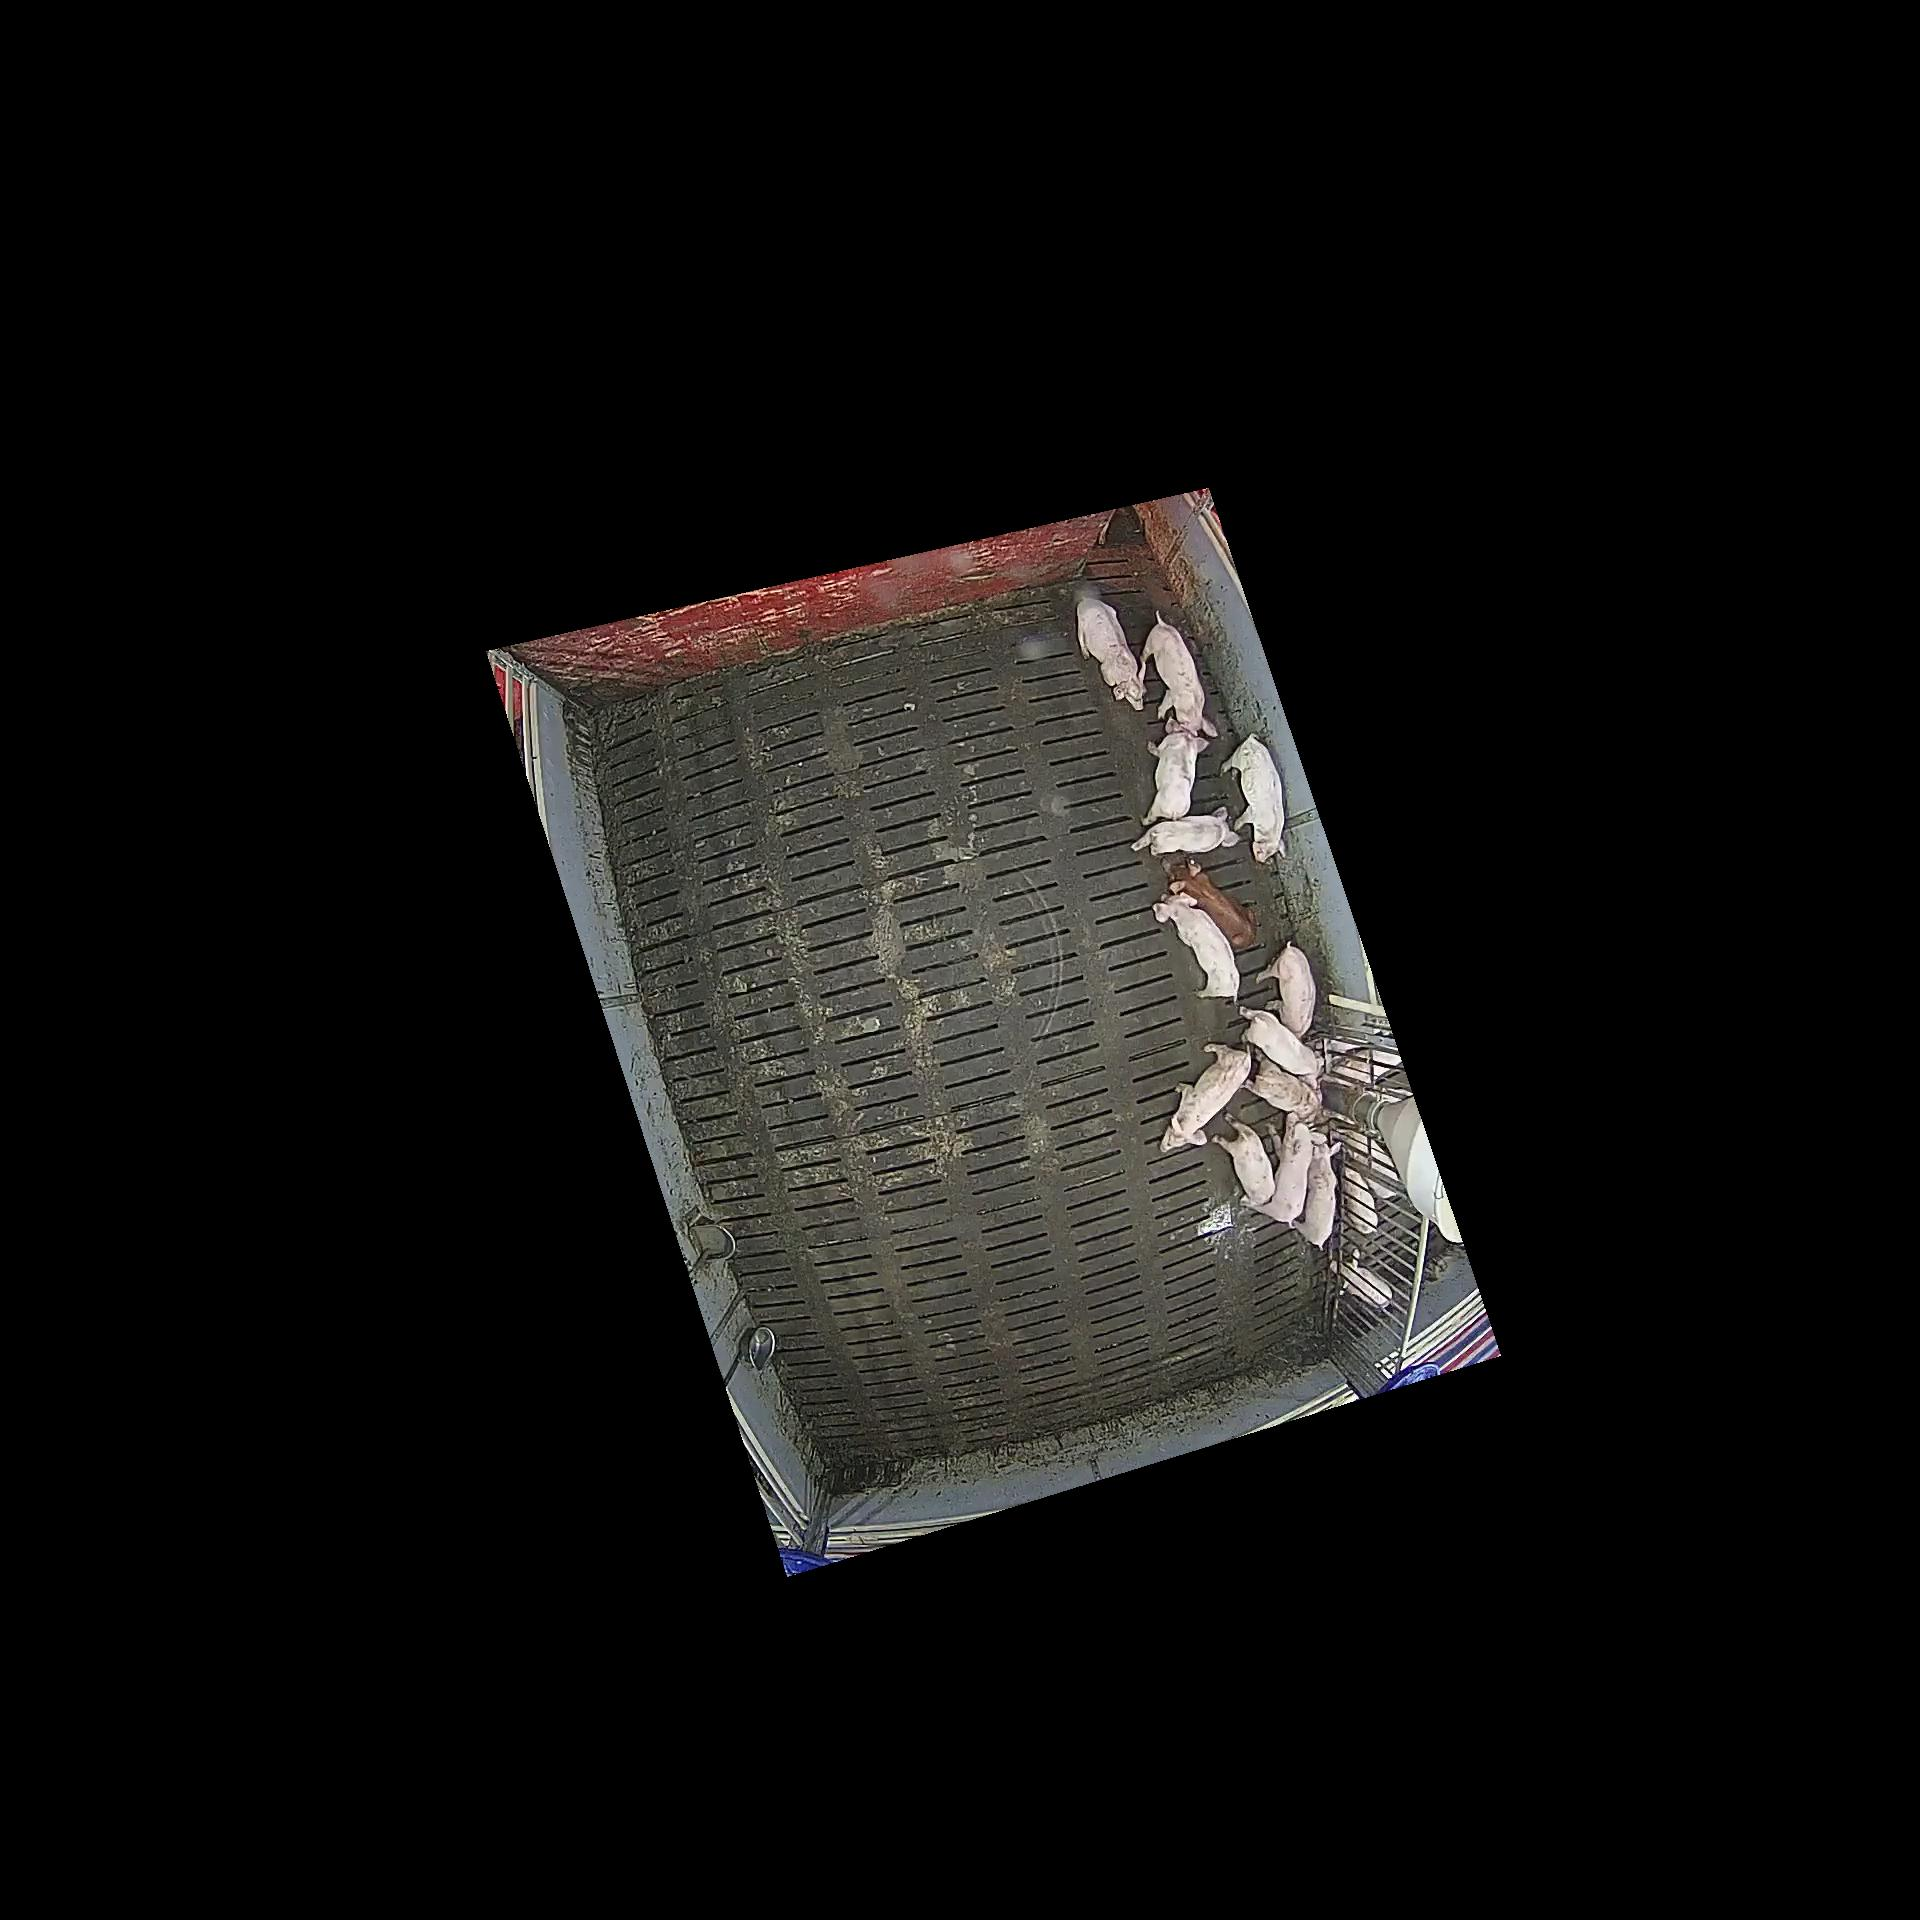pig: (1139, 610, 1218, 737), (1152, 891, 1240, 1004), (1160, 1044, 1250, 1152), (1247, 1113, 1327, 1229), (1160, 858, 1257, 948), (1220, 735, 1287, 863), (1076, 593, 1148, 710), (1139, 716, 1210, 826), (1240, 1006, 1324, 1090), (1255, 941, 1317, 1039), (1211, 1113, 1275, 1206), (1245, 1048, 1322, 1122), (1131, 807, 1240, 856), (1294, 1141, 1342, 1250)
